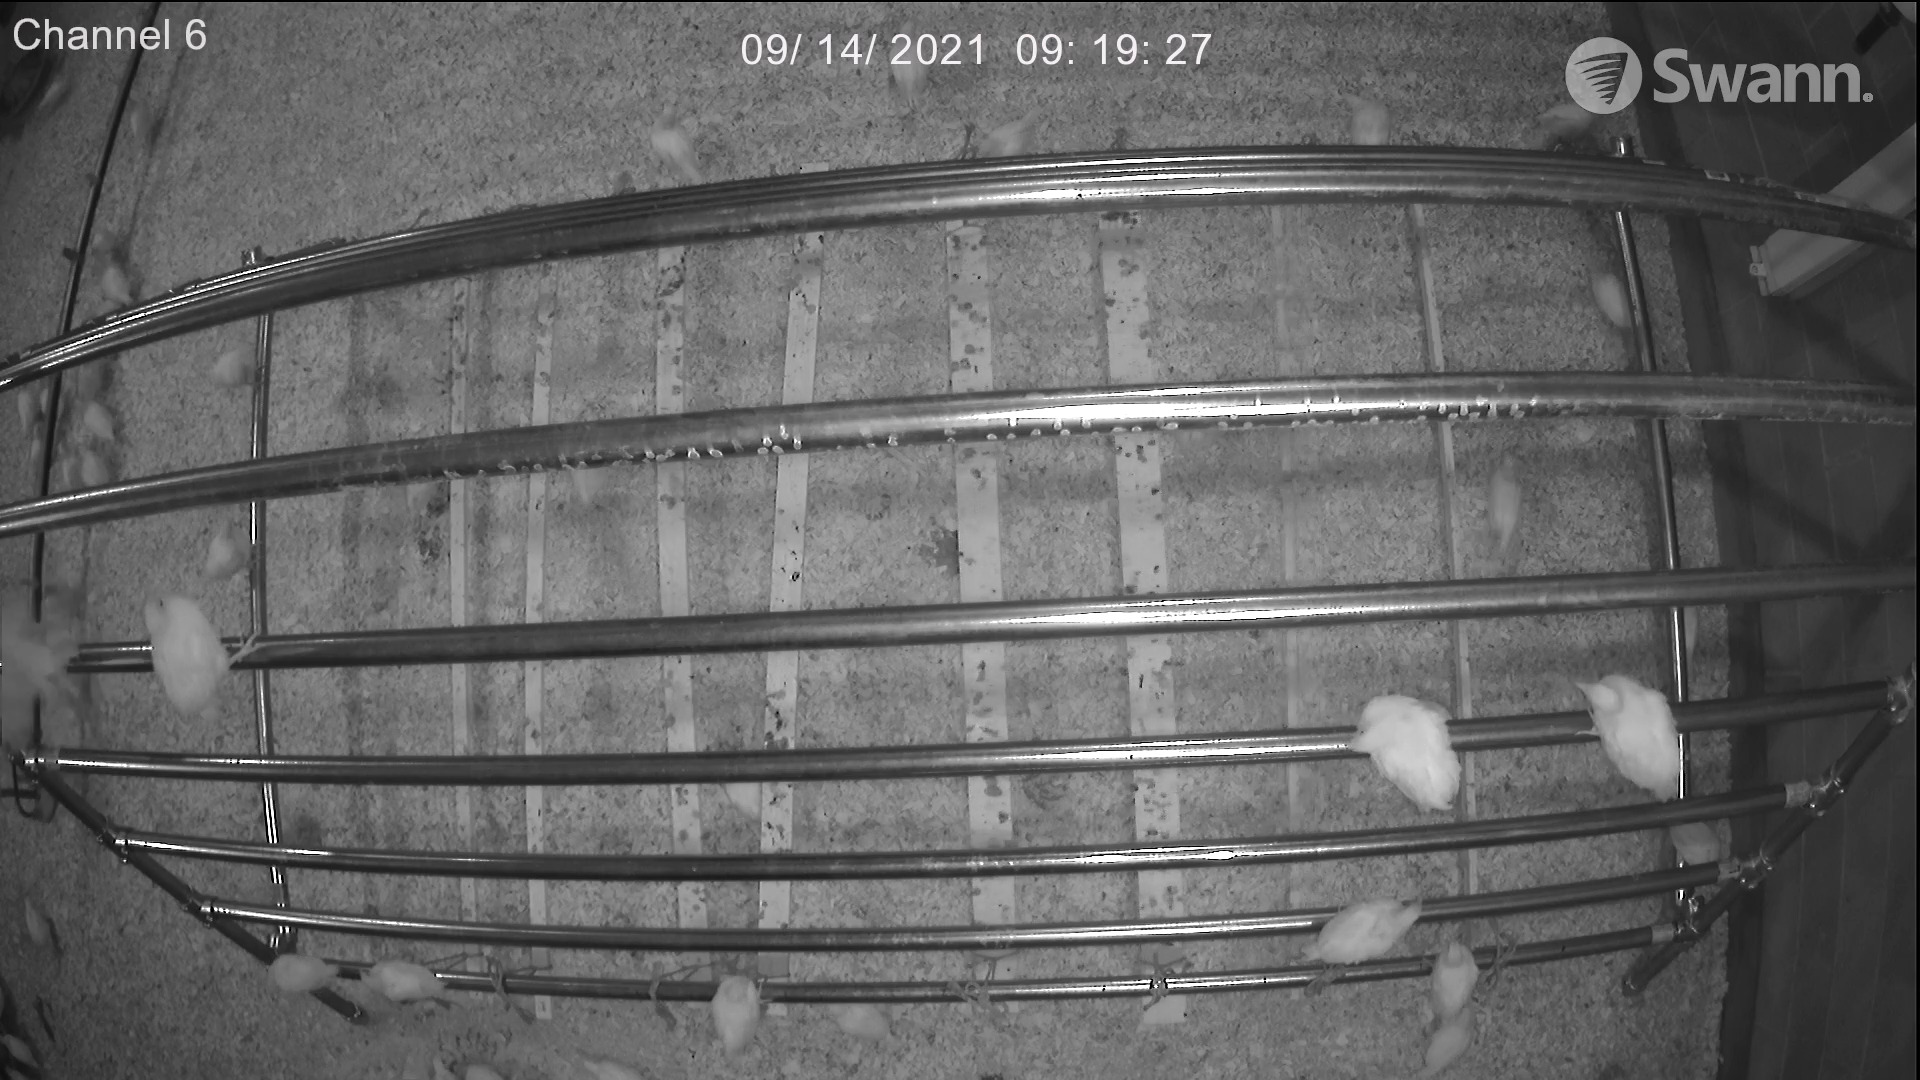Perching: (1329, 679, 1484, 820), (128, 576, 264, 724), (1567, 655, 1697, 799), (1288, 891, 1423, 971), (699, 967, 774, 1060), (349, 949, 448, 1011), (1432, 924, 1484, 1025), (261, 945, 343, 1004), (206, 345, 268, 400), (1664, 820, 1737, 866)
